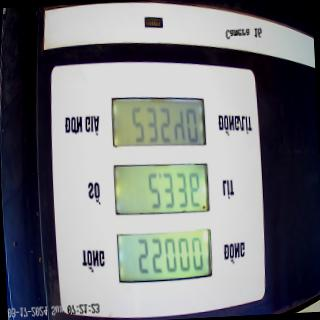screen: (108, 90, 216, 286)
